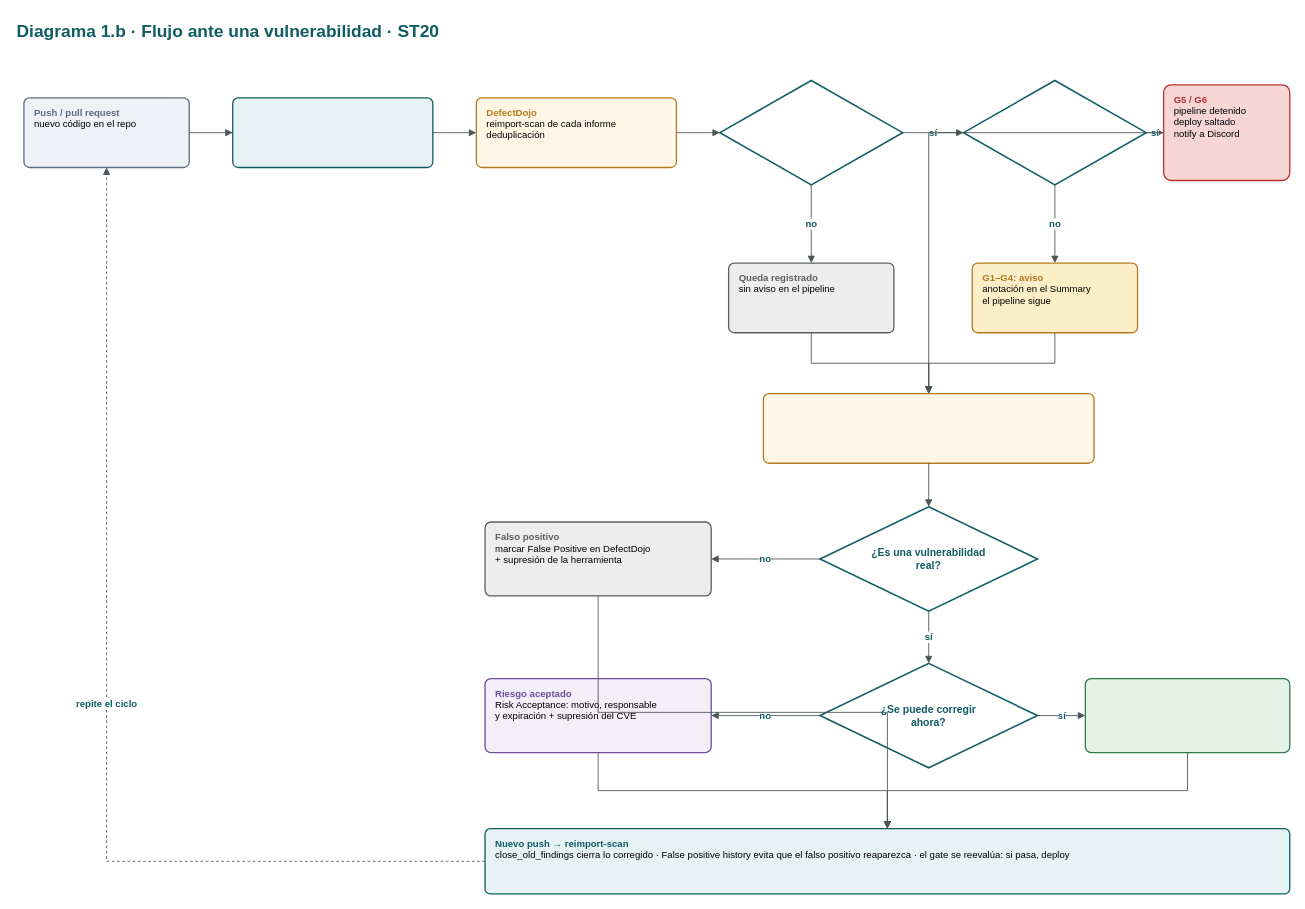
The diagram is 1305 pixels wide and 909 high, and some of its shapes have lost their labels. The box of each missing label's shape, as (x1, y1, x2, y2) in pixels:
Análisis en el pipeline SCA · SAST · IaC · Container · DAST: (232, 97, 433, 168)
Corregir código, dependencia o imagen base Verified + responsable: (1084, 678, 1290, 753)
Triage en DefectDojo revisar, priorizar por SLA y asignar responsable: (762, 393, 1094, 464)
¿Gate bloqueante?: (962, 79, 1147, 185)
¿Supera el umbral de su gate?: (719, 79, 903, 185)
